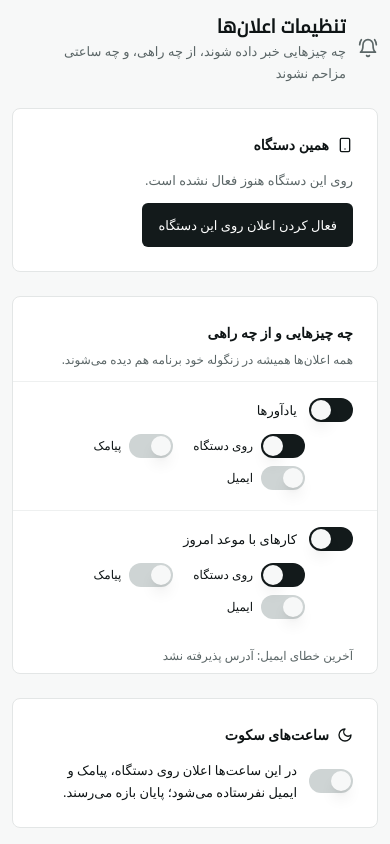
Test: notification settings page › quiet hours with Persian time fields
The image size is (390, 844).
Click the switch named "ساعت‌های سکوت" at (331, 781), box [309,769,353,793]
(page scrolled)
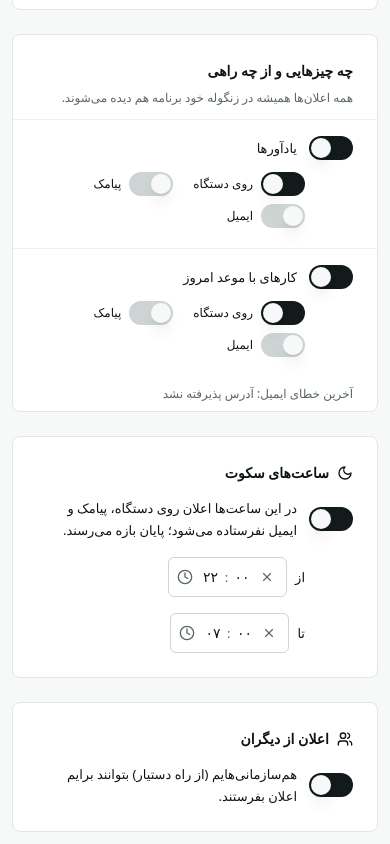
expect the dropdown named "شروع سکوت: ساعت" shows "۲۲": met, box [199,561,223,593]
